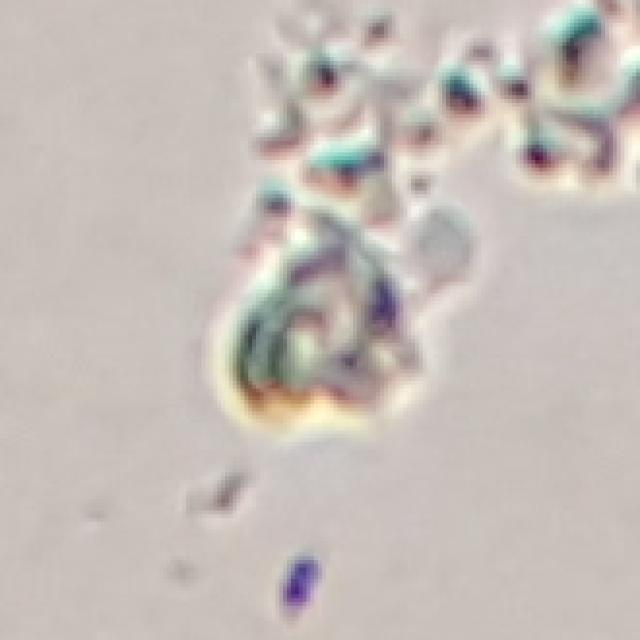non-sperm: (241, 29, 471, 424)
